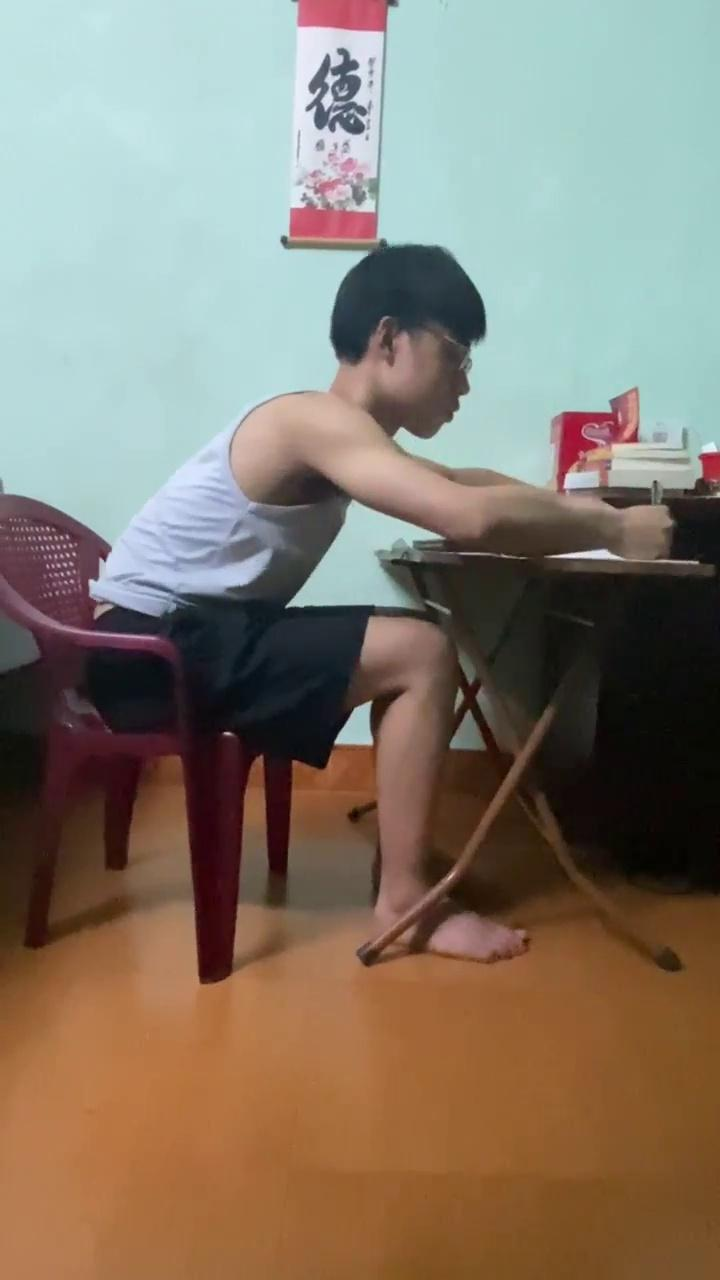BadPosture: (91, 244, 672, 929)
